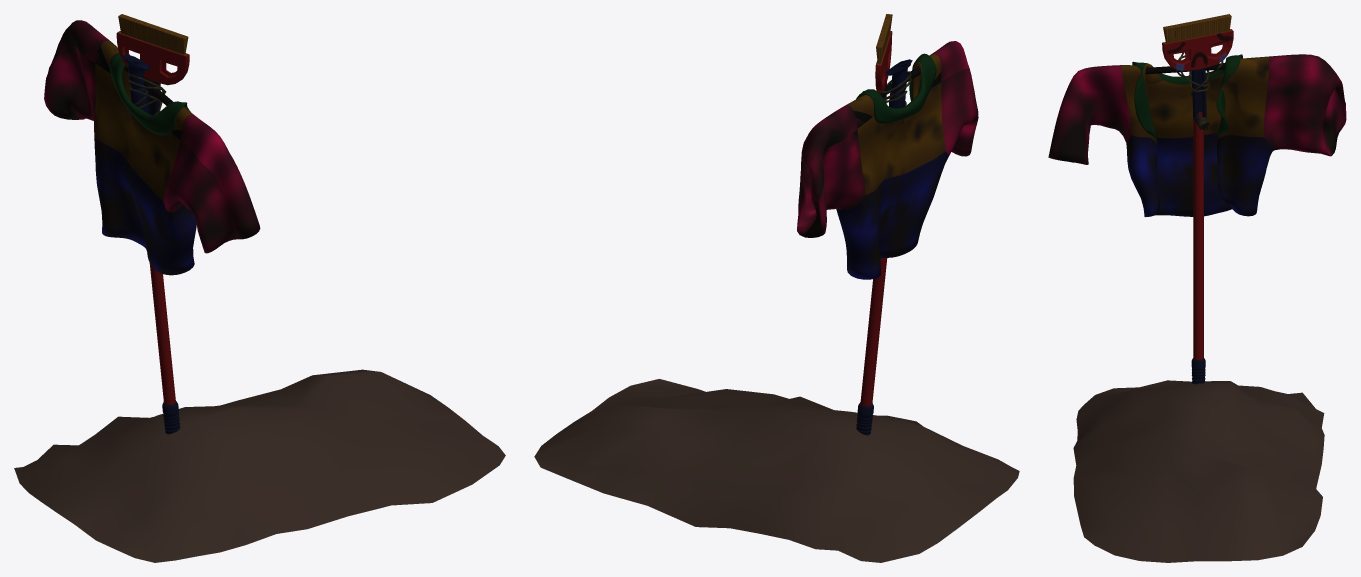
File: scarecrow scene 3.fbx
3 views of the same model, side by side, from view 1: azimuth 30°, elevation 25°; view 2: azimuth 150°, elevation 25°; view 3: azimuth 270°, elevation 25° (orthographic). The views are drawn at different scales.
Parts seen in each view (by area): view 1: earth pile, Plane, mini 4, broom 4; view 2: earth pile, Plane, broom 4, mini 4; view 3: earth pile, Plane, mini 4, broom 4, cable template.
Part boxes in pixels (x1=…): earth pile: x1=14, y1=369, x2=505, y2=562; Plane: x1=44, y1=20, x2=260, y2=275; mini 4: x1=116, y1=14, x2=189, y2=115; broom 4: x1=123, y1=54, x2=180, y2=434; earth pile: x1=534, y1=379, x2=1019, y2=562; Plane: x1=797, y1=41, x2=978, y2=279; broom 4: x1=856, y1=59, x2=912, y2=435; mini 4: x1=875, y1=14, x2=892, y2=103; earth pile: x1=1073, y1=380, x2=1324, y2=562; Plane: x1=1048, y1=54, x2=1346, y2=217; mini 4: x1=1162, y1=14, x2=1233, y2=122; broom 4: x1=1191, y1=47, x2=1212, y2=384; cable template: x1=1176, y1=52, x2=1223, y2=130.
Bounding box in the file's own units: 1075 × 1210 × 783.
Materials: 6 (5 with a texture image).
